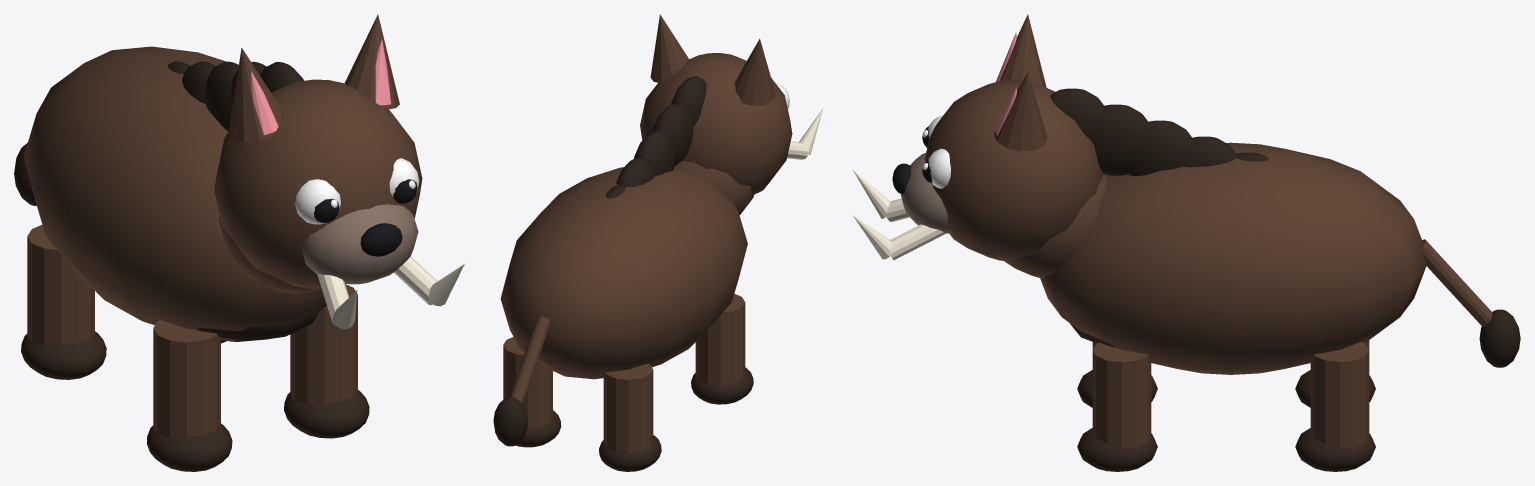
The picture shows the model from 3 angles, left to right: view 1: azimuth 30°, elevation 25°; view 2: azimuth 150°, elevation 25°; view 3: azimuth 270°, elevation 25°; orthographic projection. The views are drawn at different scales.
Visible parts, largest first — view 1: Boar; view 2: Boar; view 3: Boar.
Boxes of the visible parts, left/top/right/bottom form: Boar: left=14, top=14, right=464, bottom=471; Boar: left=493, top=14, right=823, bottom=471; Boar: left=852, top=14, right=1520, bottom=471.
Bounding box in the file's own units: 1.7 × 2.97 × 4.55.
1 material, 1 textured.
